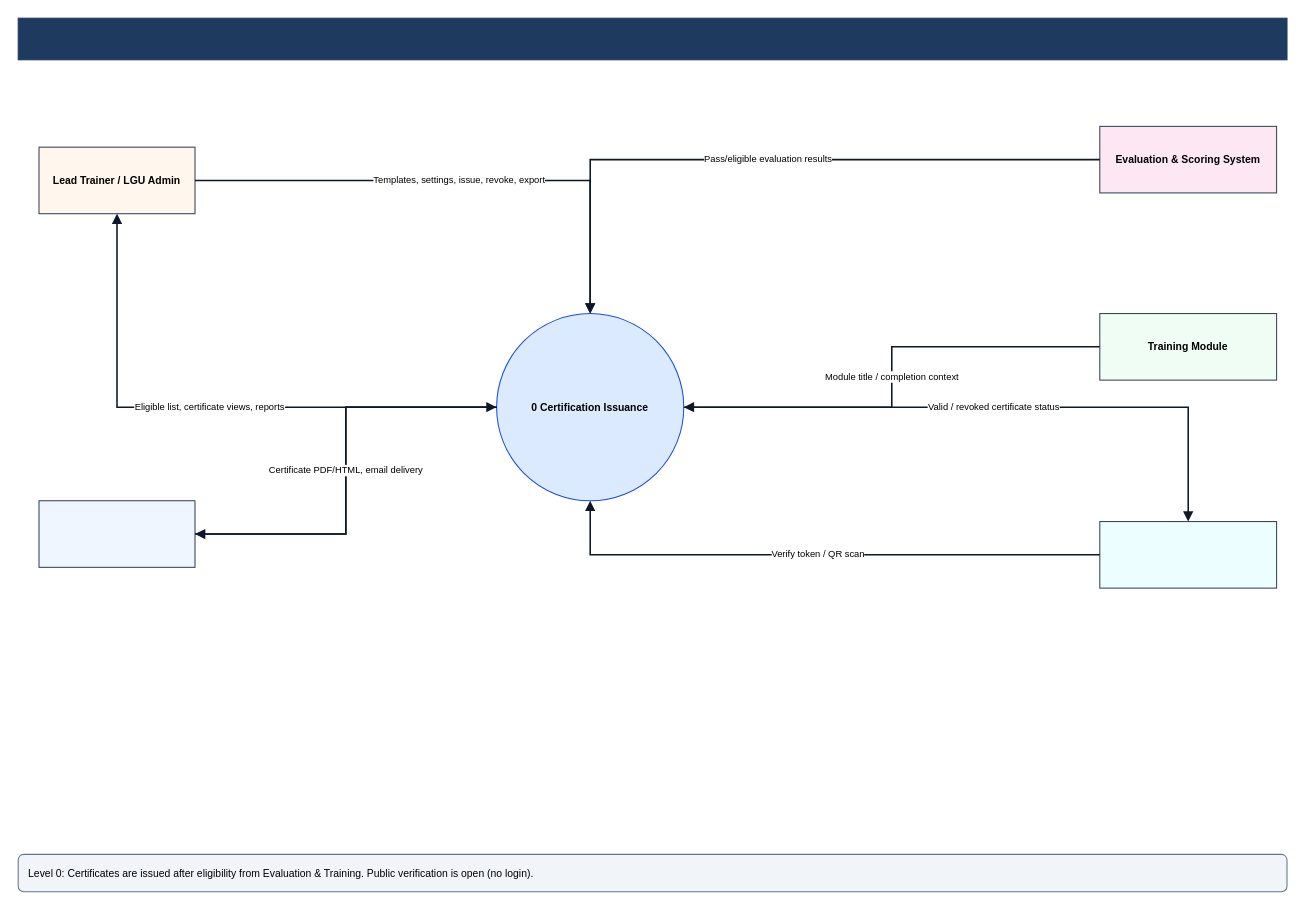
The diagram is 1305 pixels wide and 910 high, and some of its shapes have lost their labels. Each missing label, with the centre of its shape:
"DFD Level 0 — Certification Issuance (Context)" belongs at [652,38].
"Participant" belongs at [116,533].
"Public Verifier (QR / link)" belongs at [1188,554].
